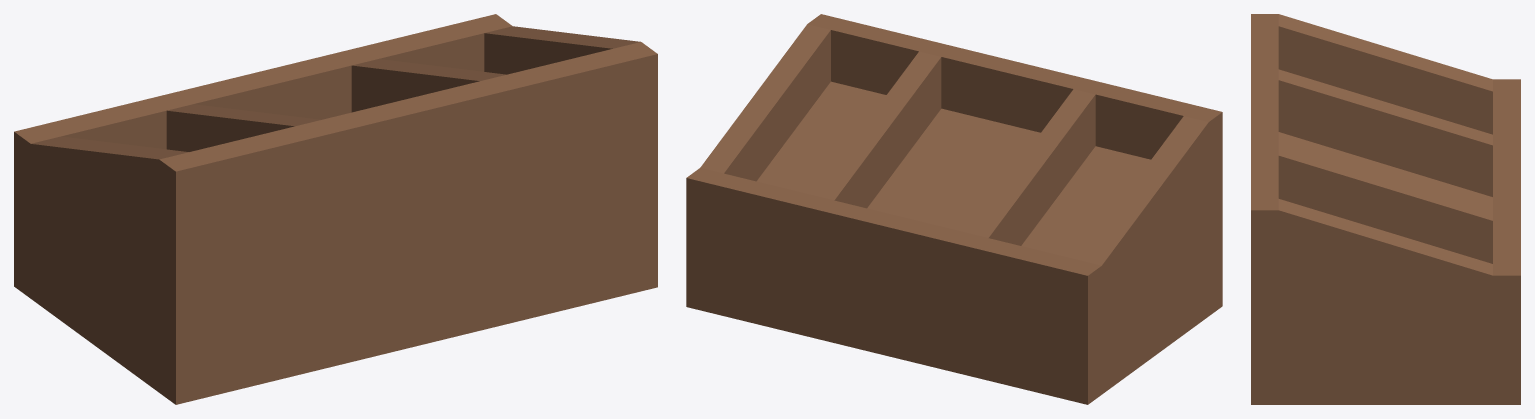
The model's file is produceshelf.glb.
The picture shows the model from 3 angles, left to right: view 1: azimuth 30°, elevation 25°; view 2: azimuth 150°, elevation 25°; view 3: azimuth 270°, elevation 25°; orthographic projection. The views are drawn at different scales.
Parts seen in each view (by area): view 1: Cube; view 2: Cube; view 3: Cube.
Boxes of the visible parts, bbox=[...] form: Cube: bbox=[14, 14, 657, 404]; Cube: bbox=[686, 14, 1222, 404]; Cube: bbox=[1251, 14, 1520, 404].
Bounding box in the file's own units: 8.13 × 3.76 × 4.72.
